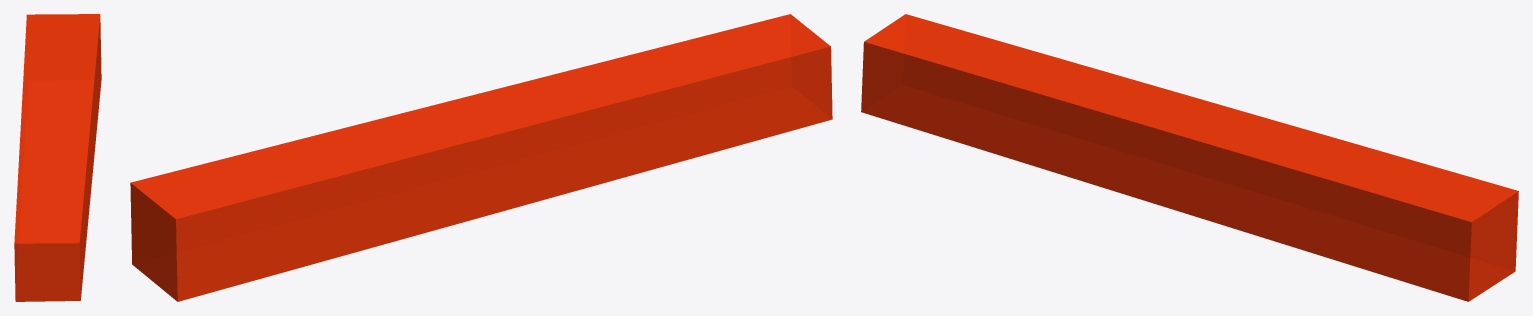
The model's file is Event_420107950_EBrechit_12.fbx.
3 views of the same model, side by side, from view 1: azimuth 30°, elevation 25°; view 2: azimuth 150°, elevation 25°; view 3: azimuth 270°, elevation 25° (orthographic). The views are drawn at different scales.
Visible parts, largest first — view 1: Model; view 2: Model; view 3: Model.
Part boxes in pixels (<box>): Model: <box>14,14,101,301</box>; Model: <box>130,14,832,301</box>; Model: <box>861,14,1518,301</box>.
Bounding box in the file's own units: 0.3201 × 0.08 × 0.4685.
